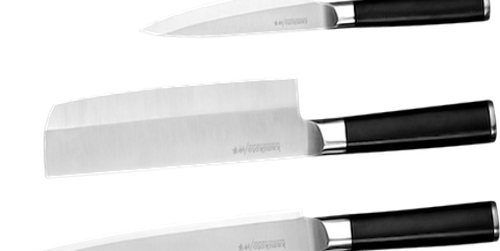knife: (136, 1, 497, 37)
